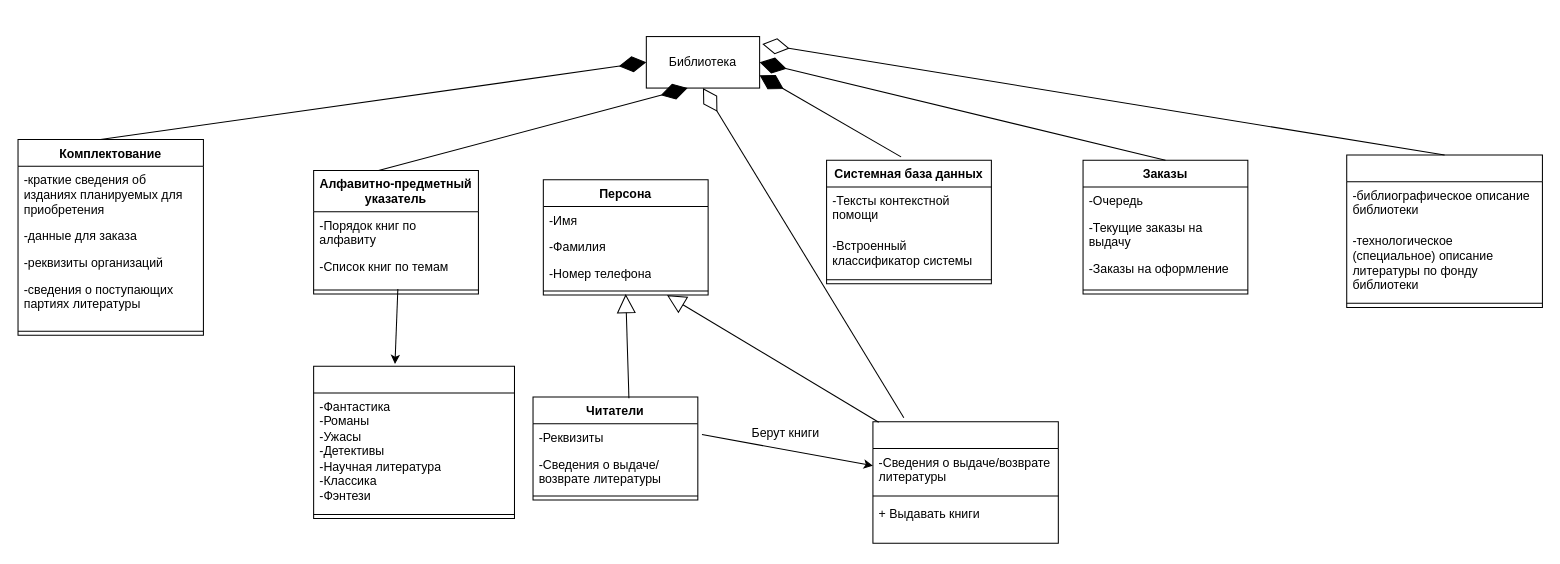
Some shapes in this 1560 by 564 pixel diagram are drawn without their labels. Each missing label, with the box of its shape:
Библиотекари: (872, 421, 1058, 543)
Темы: (313, 365, 514, 519)
Электронный каталог: (1346, 154, 1542, 307)
